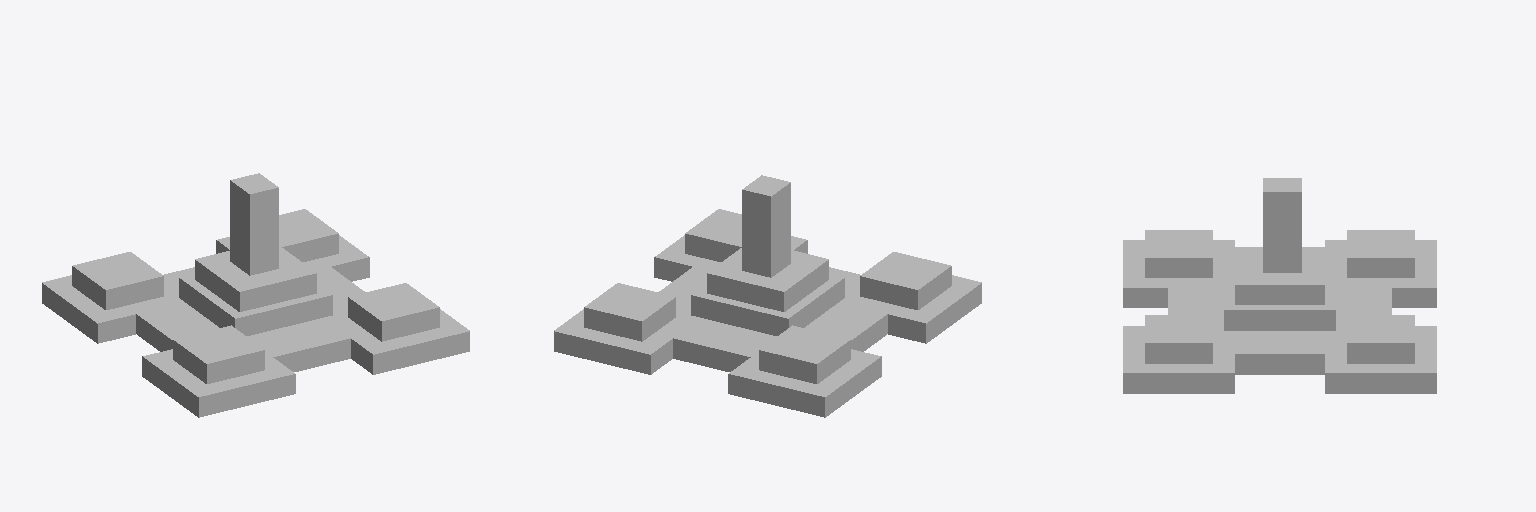
File: laser turret - base.obj
The picture shows the model from 3 angles: view 1: azimuth 30°, elevation 25°; view 2: azimuth 150°, elevation 25°; view 3: azimuth 270°, elevation 25°; orthographic projection.
Visible parts, largest first — view 1: laser turret - base; view 2: laser turret - base; view 3: laser turret - base.
Part boxes in pixels (x1,y1,x2,y2): laser turret - base: (42, 173, 469, 417); laser turret - base: (554, 175, 981, 417); laser turret - base: (1123, 178, 1436, 393).
Bounding box in the file's own units: 56 × 28 × 56.